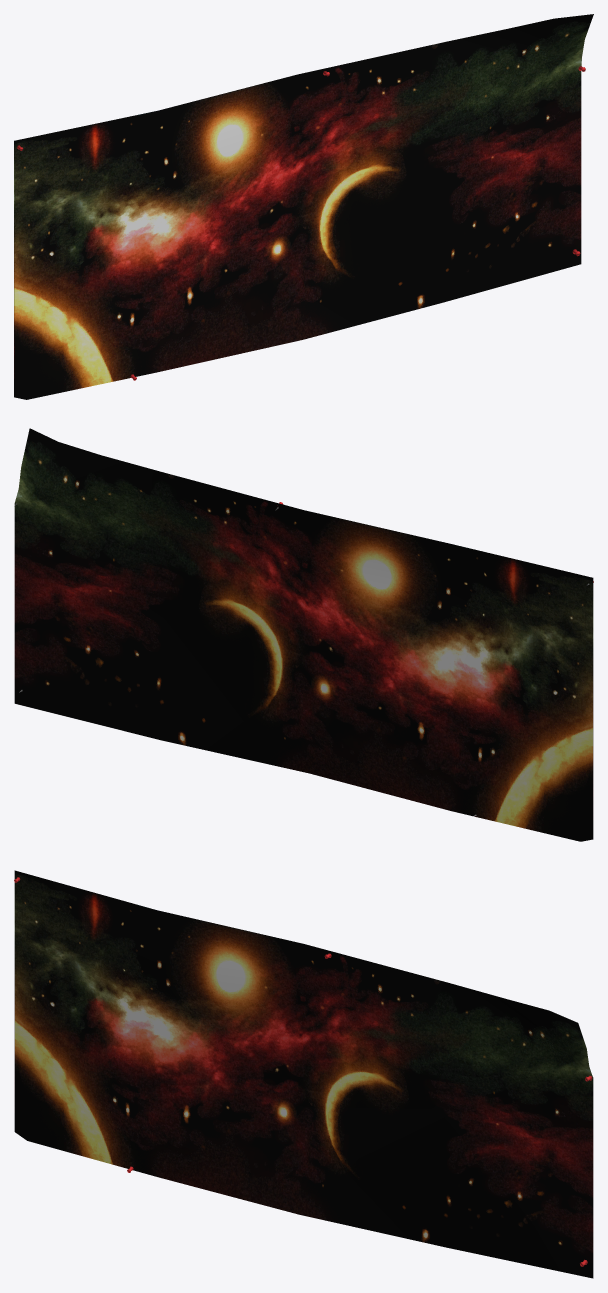
File: poster_simons_room_planets.dae
3 renders of one model, top to bottom at view 1: azimuth 30°, elevation 25°; view 2: azimuth 150°, elevation 25°; view 3: azimuth 330°, elevation 25°, orthographic.
Visible parts, largest first — view 1: poster_simons_room_planets_pPlane1__3_; view 2: poster_simons_room_planets_pPlane1__3_; view 3: poster_simons_room_planets_pPlane1__3_.
Boxes of the visible parts, bbox=[...] form: poster_simons_room_planets_pPlane1__3_: bbox=[14, 14, 593, 399]; poster_simons_room_planets_pPlane1__3_: bbox=[14, 428, 593, 841]; poster_simons_room_planets_pPlane1__3_: bbox=[14, 870, 593, 1278].
Bounding box in the file's own units: 2.08 × 0.9283 × 0.1081.
